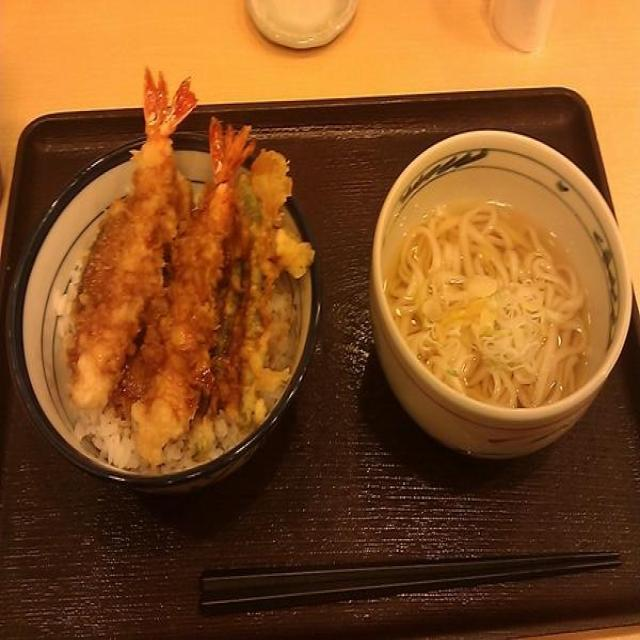熟制海鲜: (11, 65, 318, 485)
面条主食: (362, 122, 634, 458)
